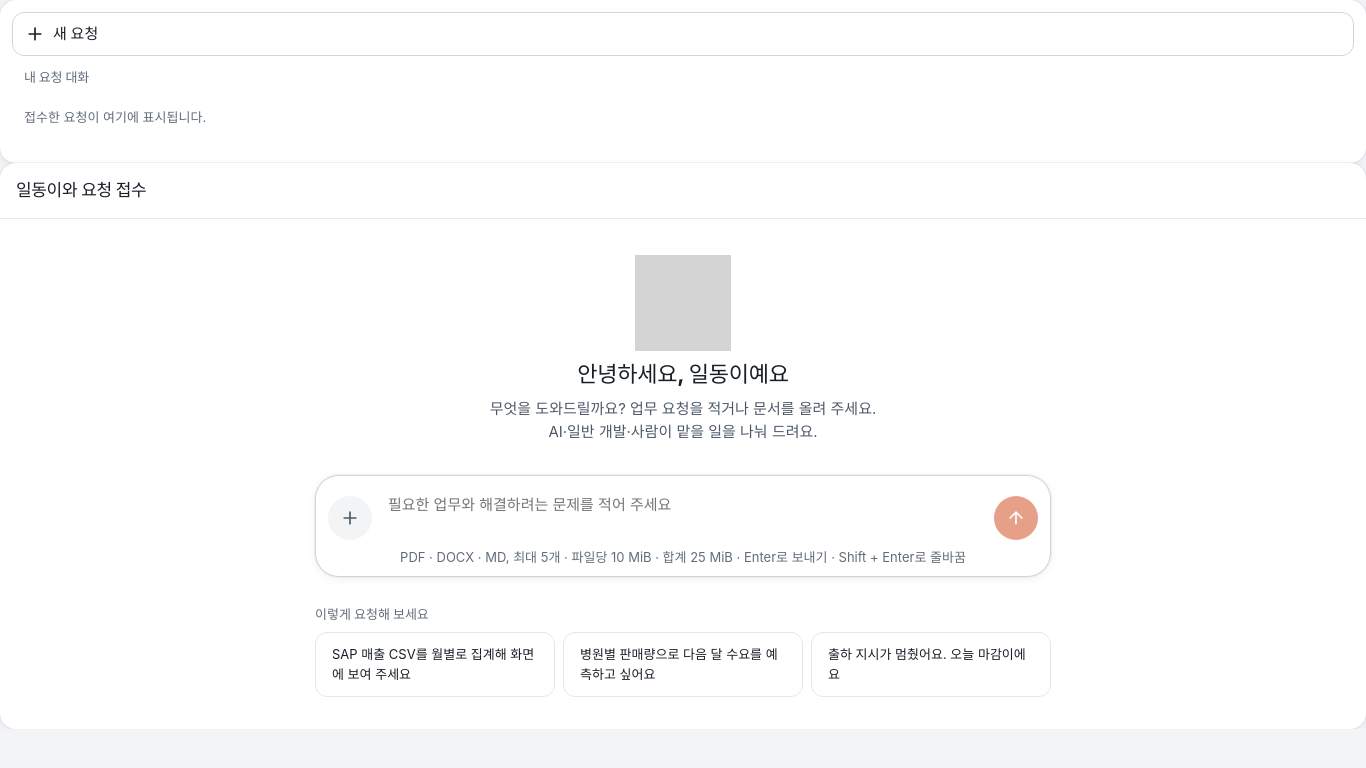
ChatGPT-style conversation › the send button turns into a stop-shaped, disabled button while the message is on its way
Type "챗봇을 도입하고 싶습니다" into the text box named "요청 내용". click: point(683, 512)
box: [380, 484, 986, 540]
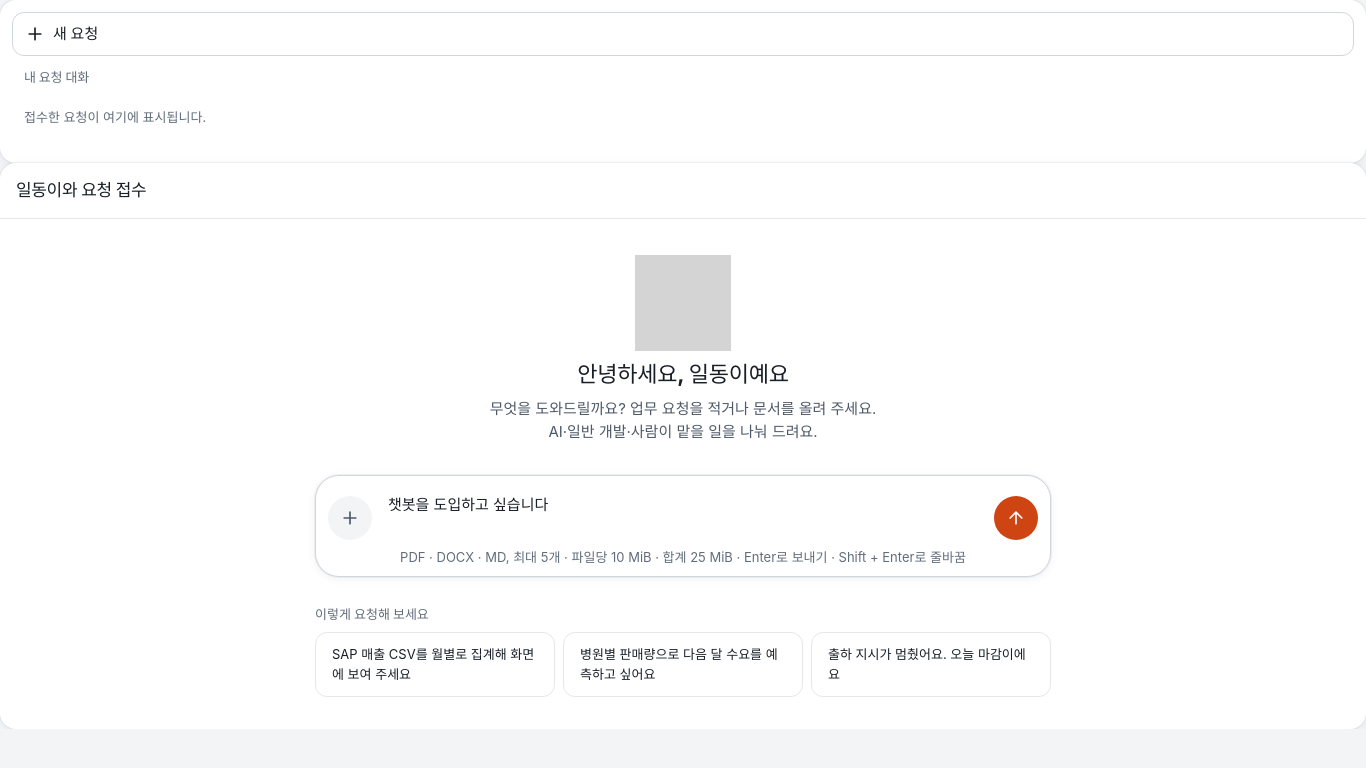
Click the button named "요청 보내기". click: point(1016, 518)
box: [994, 496, 1038, 540]
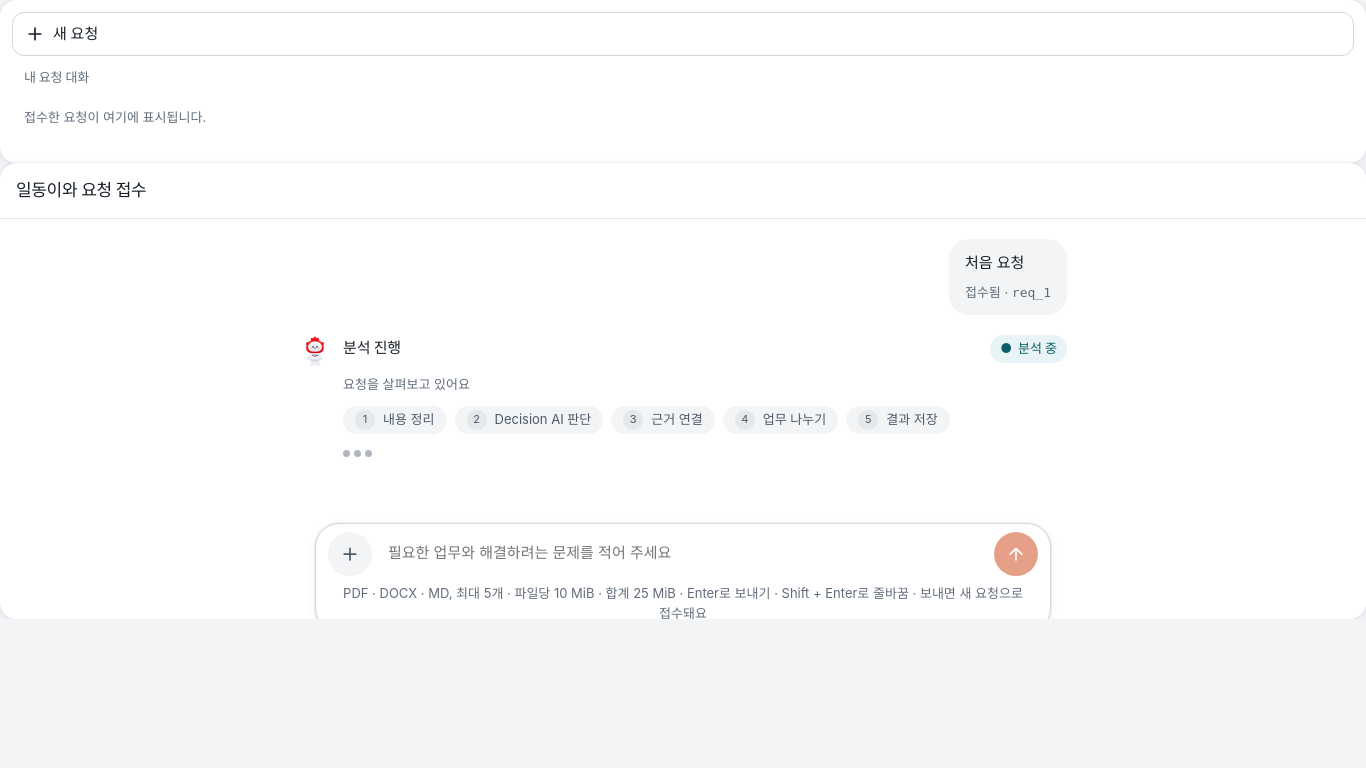
expect the button named "전송 중" is disabled: met, box [994, 525, 1038, 569]
